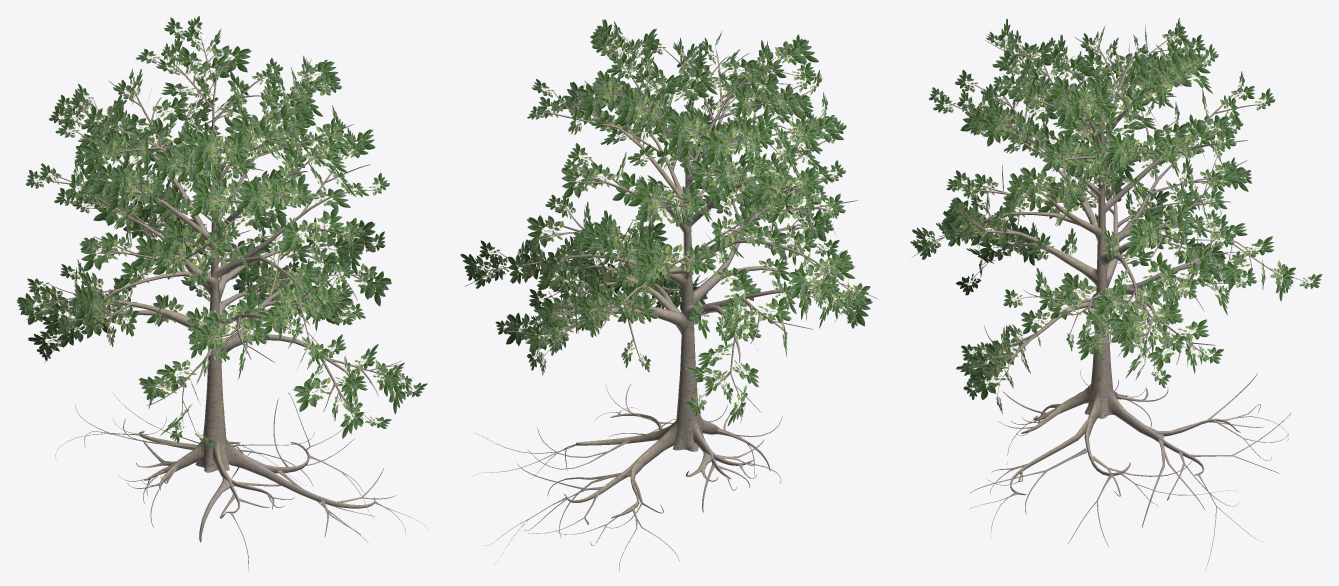
File: panama.glb
3 views of the same model, side by side, from view 1: azimuth 30°, elevation 25°; view 2: azimuth 150°, elevation 25°; view 3: azimuth 270°, elevation 25° (orthographic). The views are drawn at different scales.
Parts seen in each view (by area): view 1: tree; view 2: tree; view 3: tree.
Boxes of the visible parts, x1=… form: tree: x1=16, y1=16, x2=427, y2=571; tree: x1=460, y1=19, x2=877, y2=570; tree: x1=910, y1=17, x2=1322, y2=570.
Bounding box in the file's own units: 3.46 × 4.28 × 3.45.
Materials: 2 (2 with a texture image).
